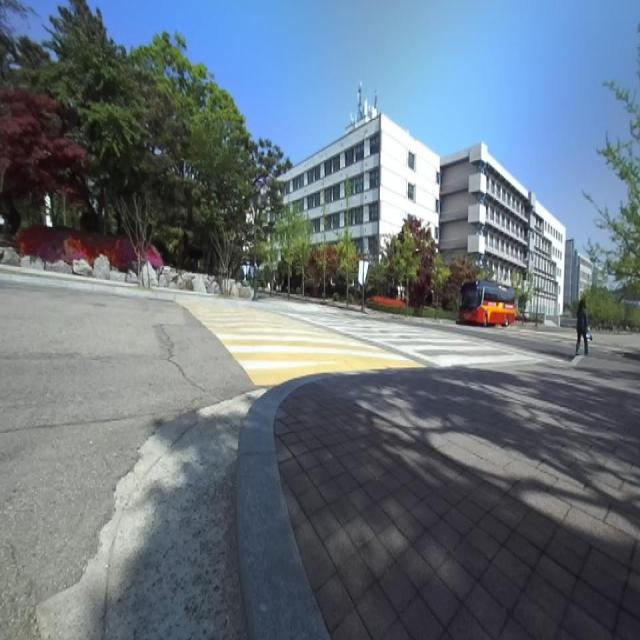sidewalk: (274, 353, 640, 639), (237, 375, 330, 640), (572, 356, 585, 365)
